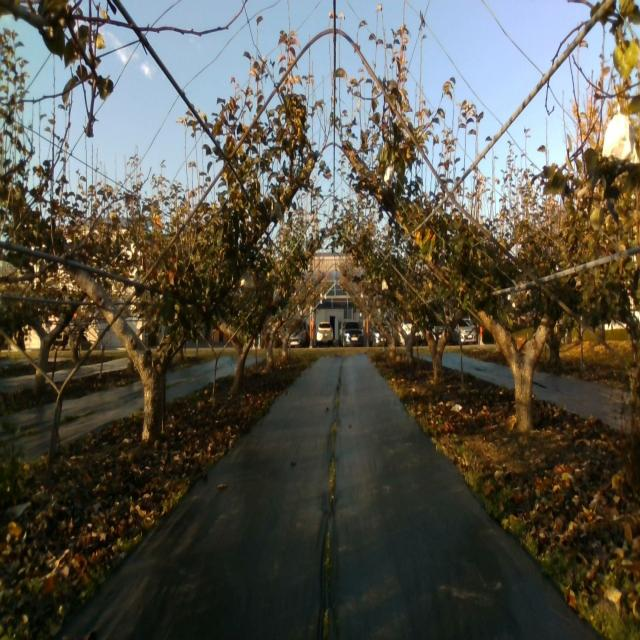pearbags: (602, 103, 640, 167), (384, 166, 396, 188)
